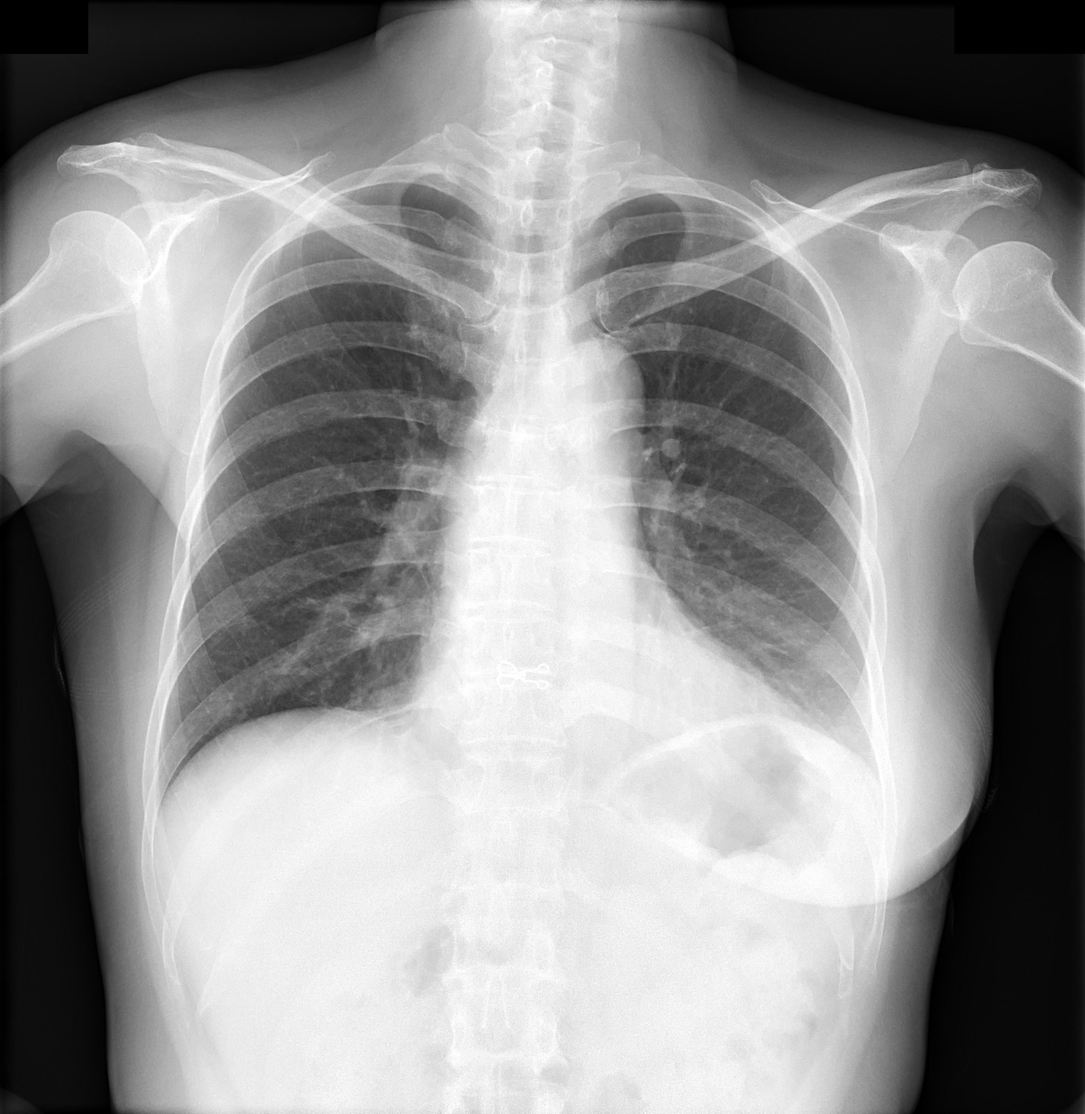Aortic enlargement: (549, 342, 644, 447)
